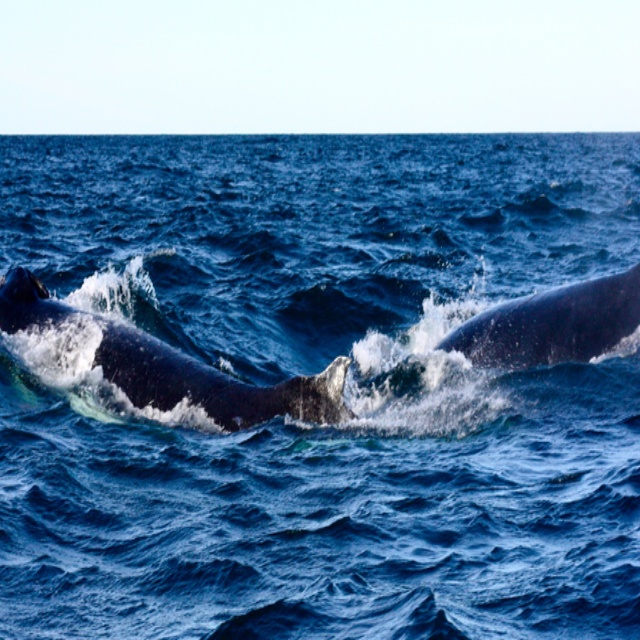Whale: (0, 266, 359, 432), (435, 260, 640, 368)
